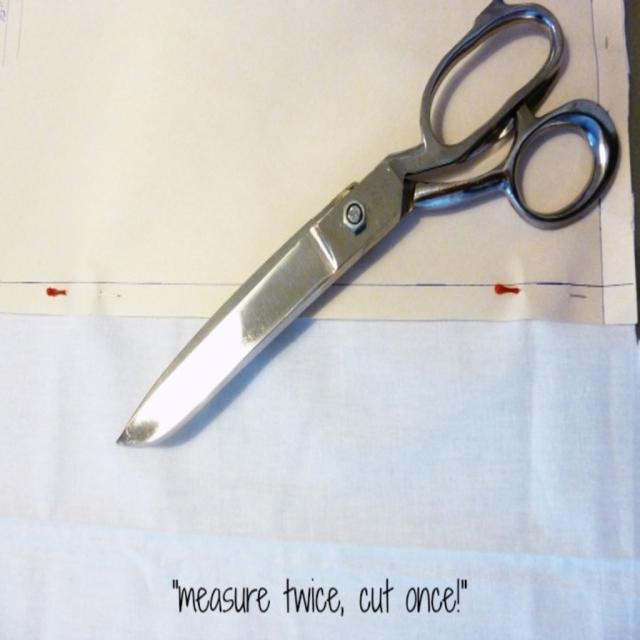scissors: (115, 0, 619, 447)
